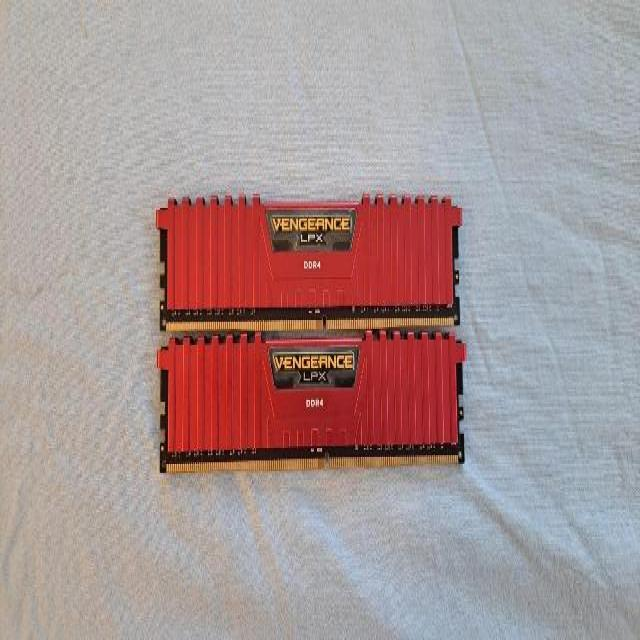RAM: (156, 330, 468, 477), (154, 192, 464, 334)
